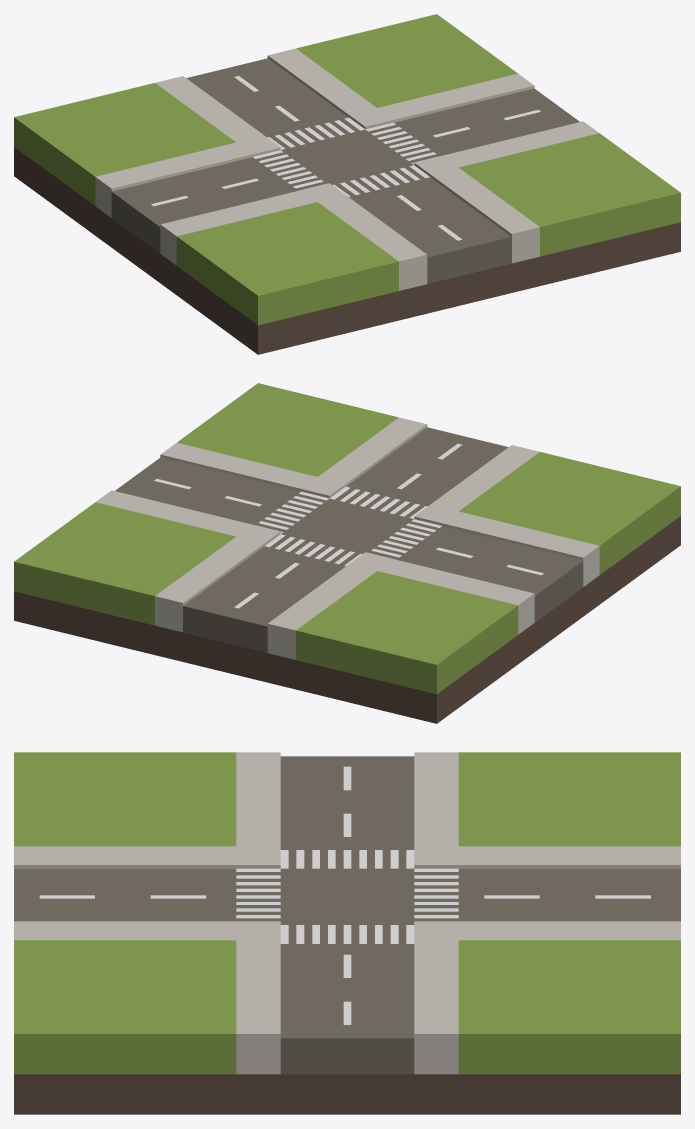
File: road-tile-crossing.fbx
The picture shows the model from 3 angles, top to bottom: view 1: azimuth 30°, elevation 25°; view 2: azimuth 150°, elevation 25°; view 3: azimuth 270°, elevation 25°; orthographic projection. The views are drawn at different scales.
Visible parts, largest first — view 1: road-tile-crossing; view 2: road-tile-crossing; view 3: road-tile-crossing.
Boxes of the visible parts, box(x1,y1,x2,y2) form: road-tile-crossing: box(14, 14, 680, 354); road-tile-crossing: box(14, 383, 680, 723); road-tile-crossing: box(14, 752, 680, 1114).
Bounding box in the file's own units: 3000 × 400 × 3000.
